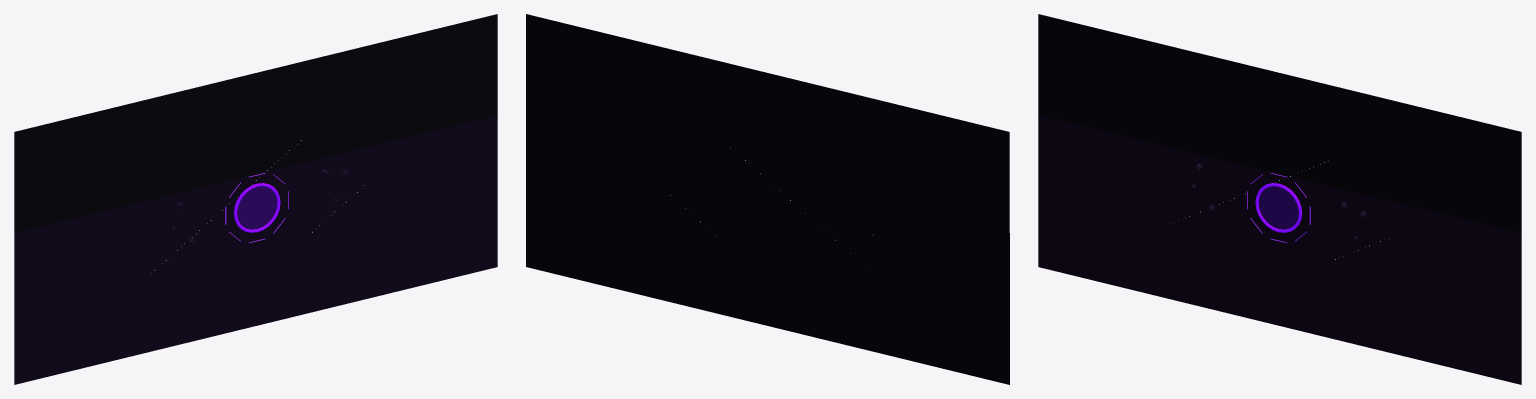
Rendered from voidRift.glb.
The picture shows the model from 3 angles, left to right: view 1: azimuth 30°, elevation 25°; view 2: azimuth 150°, elevation 25°; view 3: azimuth 330°, elevation 25°; orthographic projection.
Visible parts, largest first — view 1: object 2, background, object 64, object 63; view 2: background; view 3: object 2, background, object 64, object 63.
Boxes of the visible parts, x1=… form: object 2: x1=14, y1=115, x2=497, y2=384; background: x1=14, y1=14, x2=497, y2=232; object 64: x1=237, y1=186, x2=277, y2=229; object 63: x1=234, y1=183, x2=280, y2=232; background: x1=526, y1=14, x2=1009, y2=384; object 2: x1=1038, y1=115, x2=1521, y2=384; background: x1=1038, y1=14, x2=1521, y2=232; object 64: x1=1258, y1=186, x2=1298, y2=229; object 63: x1=1255, y1=183, x2=1301, y2=232.
Size of the model in its own units: 4000 by 2000 by 68.03.
